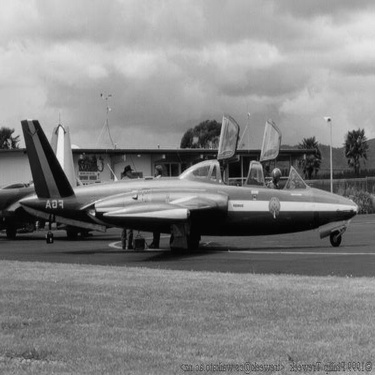airplane: (9, 102, 361, 274), (1, 116, 165, 252)
